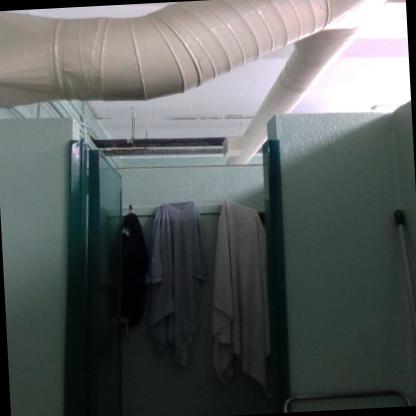open: (61, 108, 303, 416)
